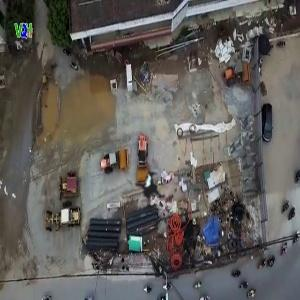drone: (109, 147, 199, 237)
